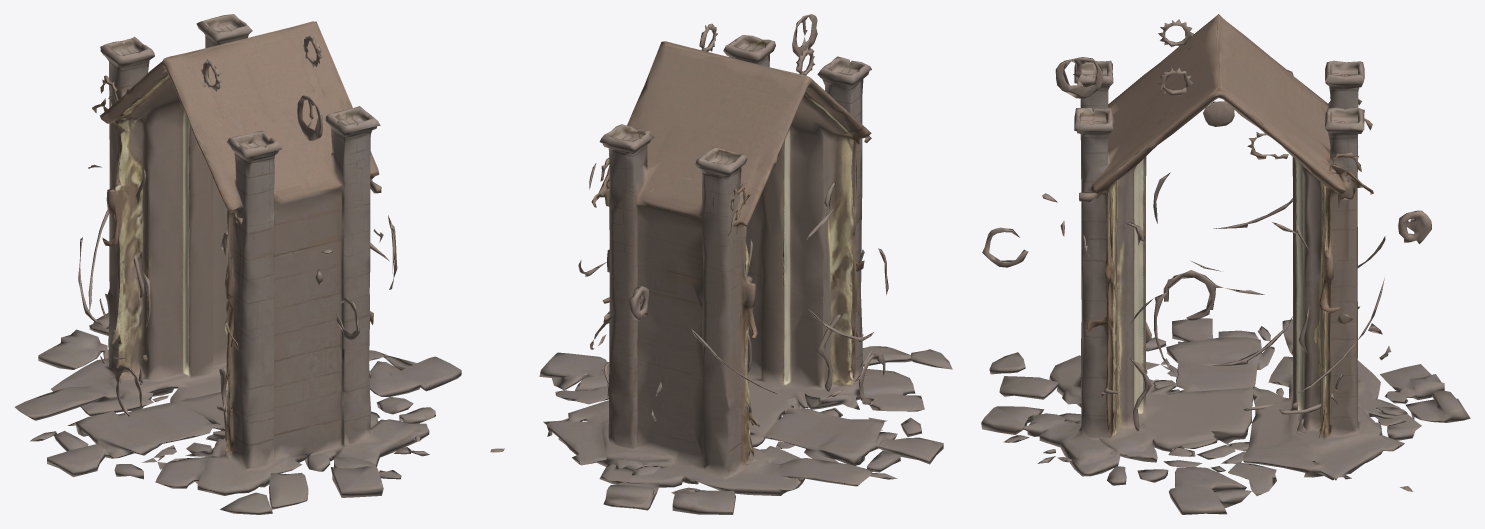
File: timePortal.fbx
3 views of the same model, side by side, from view 1: azimuth 30°, elevation 25°; view 2: azimuth 150°, elevation 25°; view 3: azimuth 270°, elevation 25° (orthographic). The views are drawn at different scales.
Visible parts, largest first — view 1: tripo_node_44dccbb5; view 2: tripo_node_44dccbb5; view 3: tripo_node_44dccbb5.
Boxes of the visible parts, x1=… form: tripo_node_44dccbb5: x1=15, y1=14, x2=461, y2=514; tripo_node_44dccbb5: x1=490, y1=14, x2=952, y2=514; tripo_node_44dccbb5: x1=981, y1=14, x2=1470, y2=514.
Size of the model in its own units: 0.9155 by 0.8422 by 0.9846.
1 material, 1 textured.
